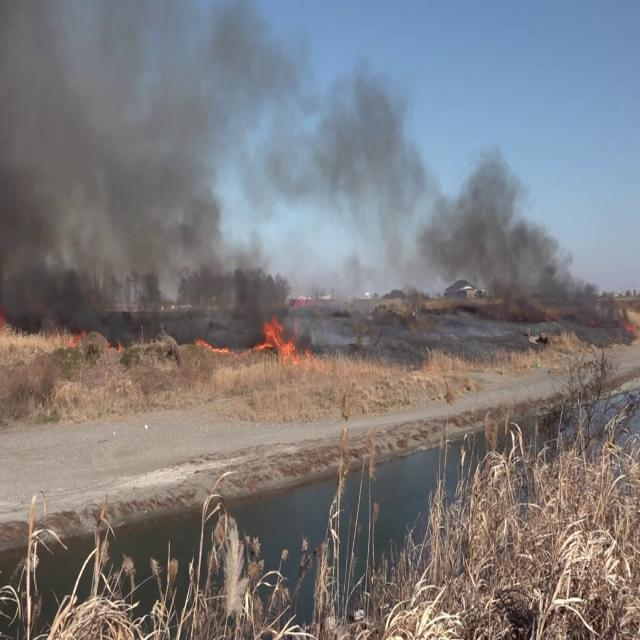Fire: (255, 313, 323, 365)
Smoke: (0, 0, 414, 334), (416, 147, 612, 319)
